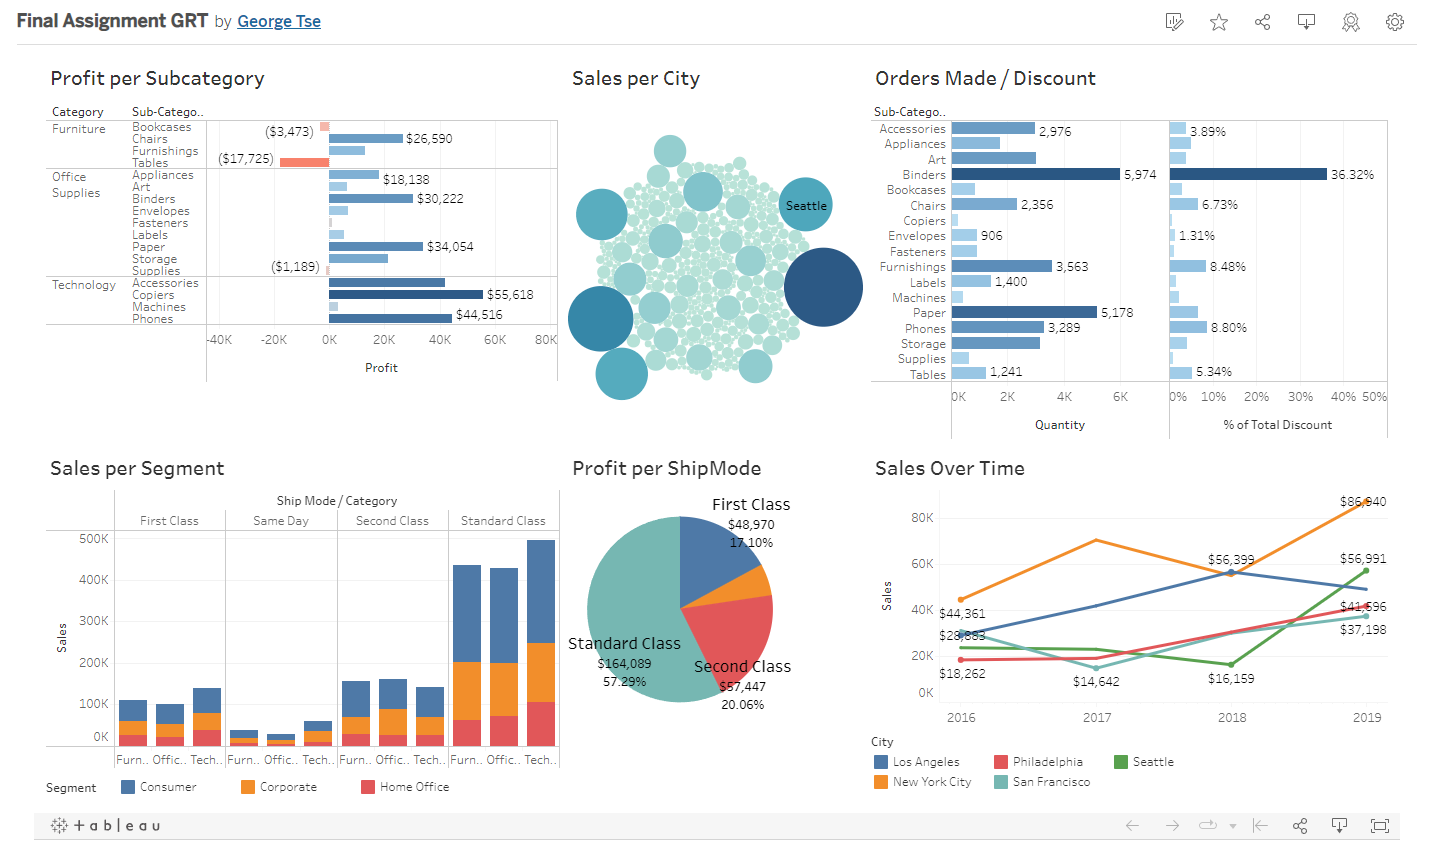

What the dashboard file says about the page in this screenshot:
{"tool":"tableau","page":{"name":"Dashboard","canvas":[1366,768],"ordinal":0},"visuals":[{"type":"worksheet","title":"Profit per Subcategory","mark":"Automatic","rows":["Category","Sub-Category"],"cols":["Profit"],"box":[8,8,522,390]},{"type":"worksheet","title":"Sales per City","mark":"Circle","box":[530,8,303,390]},{"type":"worksheet","title":"Orders Made / Discount","mark":"Automatic","rows":["Sub-Category"],"cols":["Quantity"],"box":[833,8,525,390]},{"type":"worksheet","title":"Sales per Segment","mark":"Automatic","rows":["Sales"],"cols":["Ship Mode","Category"],"box":[8,398,522,330]},{"type":"worksheet","title":"Profit per ShipMode","mark":"Pie","box":[530,398,303,362]},{"type":"worksheet","title":"Sales Over Time","mark":"Automatic","rows":["Sales"],"cols":["Order Date"],"box":[833,398,525,286]},{"type":"legend","title":"Sales Over Time","param":"[federated.1rrmzgm1il4vk81dy9qrv05guf2z].[none:City:nk]","box":[833,684,525,76]},{"type":"legend","title":"Sales per Segment","param":"[federated.1rrmzgm1il4vk81dy9qrv05guf2z].[none:Segment:nk]","box":[8,728,522,32]}]}

Visuals, with their boxes on the page's 1366x768 design canvas (x1, y1, x2, y2). These are canvas units, not pixel positions in the 1431x843 screenshot, which may show the page scaled, cropped or inside an application window:
"Profit per Subcategory" worksheet: left=8, top=8, right=530, bottom=398
"Sales per City" worksheet (Circle marks): left=530, top=8, right=833, bottom=398
"Orders Made / Discount" worksheet: left=833, top=8, right=1358, bottom=398
"Sales per Segment" worksheet: left=8, top=398, right=530, bottom=728
"Profit per ShipMode" worksheet (Pie marks): left=530, top=398, right=833, bottom=760
"Sales Over Time" worksheet: left=833, top=398, right=1358, bottom=684
"Sales Over Time" legend: left=833, top=684, right=1358, bottom=760
"Sales per Segment" legend: left=8, top=728, right=530, bottom=760
